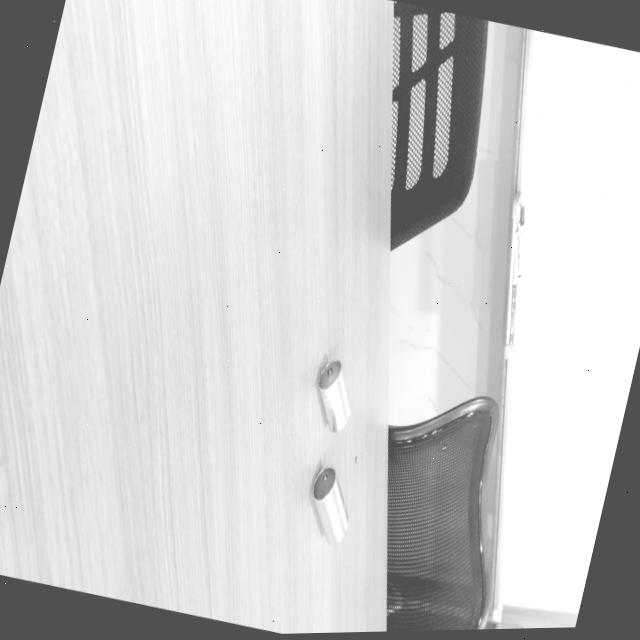Co_Lon: (304, 464, 354, 546)
Co_Nho: (313, 358, 354, 433)
